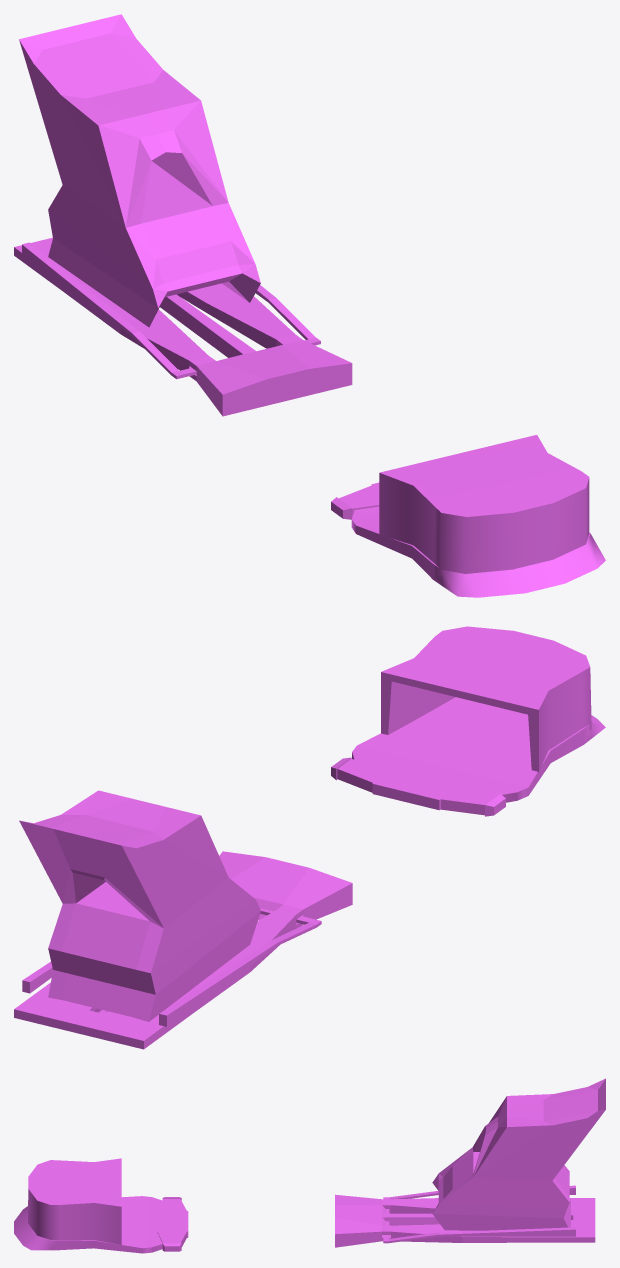
File: holder.fbx
3 renders of one model, top to bottom at view 1: azimuth 30°, elevation 25°; view 2: azimuth 150°, elevation 25°; view 3: azimuth 270°, elevation 25°, orthographic. The views are drawn at different scales.
Parts seen in each view (by area): view 1: shuangguding; view 2: shuangguding; view 3: shuangguding.
Boxes of the visible parts, x1,y1,x2,y2 form: shuangguding: (14,14,605,597); shuangguding: (14,626,605,1049); shuangguding: (14,1078,605,1253).
Size of the model in its own units: 13.26 by 15.87 by 63.57.
